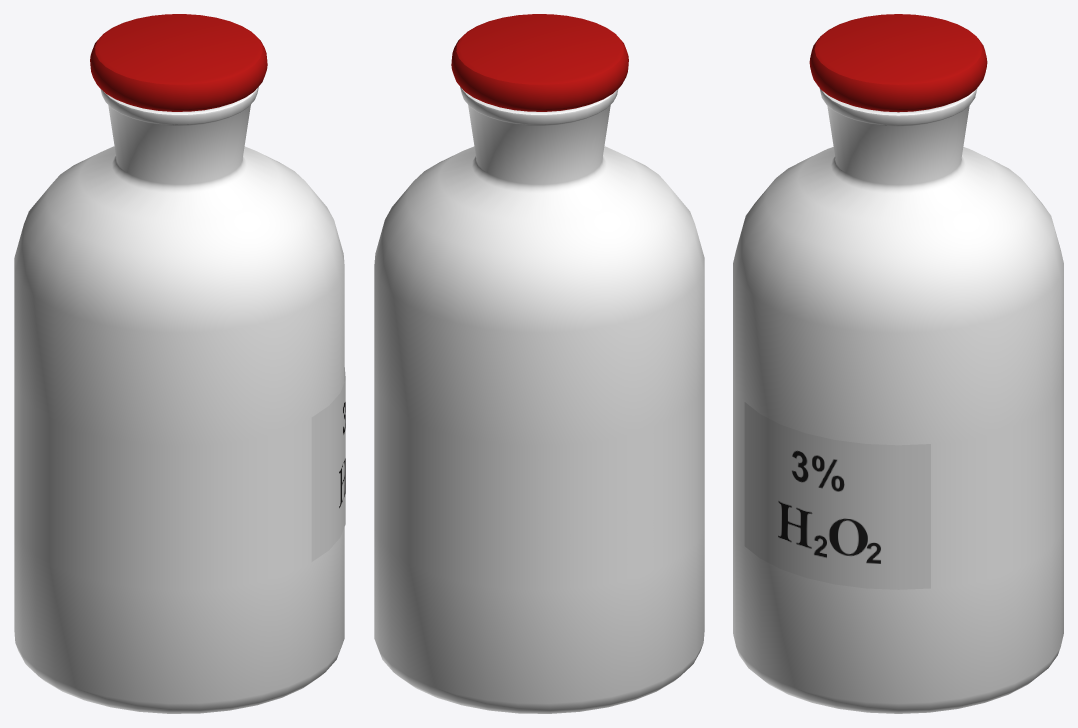
File: glass_bottle.fbx
3 renders of one model, left to right at view 1: azimuth 30°, elevation 25°; view 2: azimuth 150°, elevation 25°; view 3: azimuth 270°, elevation 25°, orthographic.
Parts seen in each view (by area): view 1: bottle, Lid, bottle.001; view 2: bottle, Lid; view 3: bottle, bottle.001, Lid.
Part boxes in pixels (box(x1,y1,x2,y2)): bottle: box(14, 86, 344, 713); Lid: box(90, 14, 267, 111); bottle.001: box(311, 367, 345, 561); bottle: box(374, 86, 704, 713); Lid: box(451, 14, 628, 111); bottle: box(733, 88, 1063, 713); bottle.001: box(744, 402, 930, 589); Lid: box(809, 14, 987, 112).
Bounding box in the file's own units: 9.55 × 19.13 × 9.52.
Materials: 4 (3 with a texture image).
